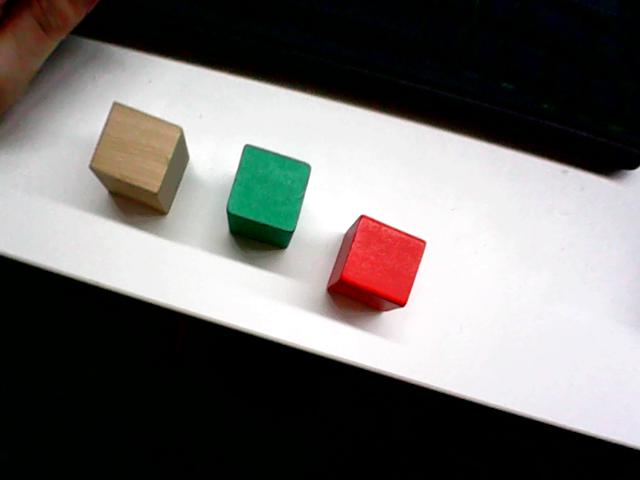green_box: (223, 140, 312, 250)
raw_box: (86, 97, 191, 215)
red_box: (324, 210, 428, 314)
